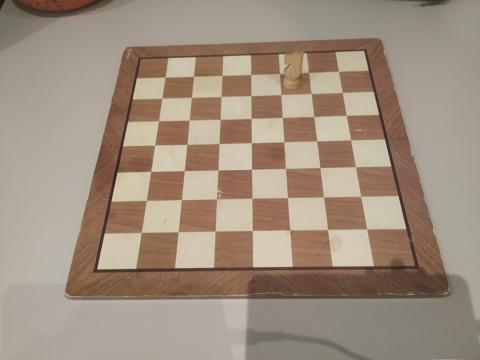xcorner: (210, 227, 220, 237), (247, 226, 257, 236), (285, 226, 295, 236), (324, 225, 334, 235), (362, 225, 372, 235), (141, 195, 151, 205), (176, 195, 186, 205), (211, 194, 221, 204), (247, 194, 257, 204), (283, 193, 293, 203), (320, 192, 330, 202), (356, 192, 366, 202), (145, 166, 155, 176), (179, 165, 189, 175), (213, 165, 223, 175), (247, 164, 257, 174), (281, 163, 291, 173), (316, 163, 326, 173), (351, 162, 361, 172), (149, 139, 159, 149), (182, 138, 192, 148), (214, 138, 224, 148), (247, 137, 257, 147), (280, 136, 290, 146), (346, 135, 356, 145), (153, 115, 163, 125), (184, 114, 194, 124), (215, 113, 225, 123), (247, 112, 257, 122), (278, 111, 288, 121), (310, 111, 320, 121), (342, 110, 352, 120), (157, 92, 167, 102), (187, 91, 197, 101), (216, 90, 226, 100), (277, 89, 287, 99), (307, 88, 317, 98), (338, 87, 348, 97), (160, 71, 170, 81), (189, 70, 199, 80), (217, 69, 227, 79), (246, 68, 256, 78), (305, 67, 315, 77), (334, 66, 344, 76), (136, 228, 145, 238), (173, 227, 182, 237), (313, 136, 323, 145), (247, 89, 256, 99), (275, 68, 285, 77)
